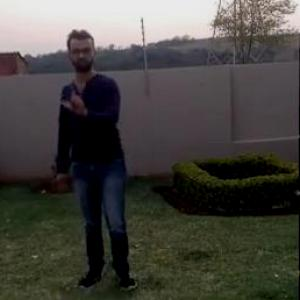land_hand: (62, 79, 93, 118)
